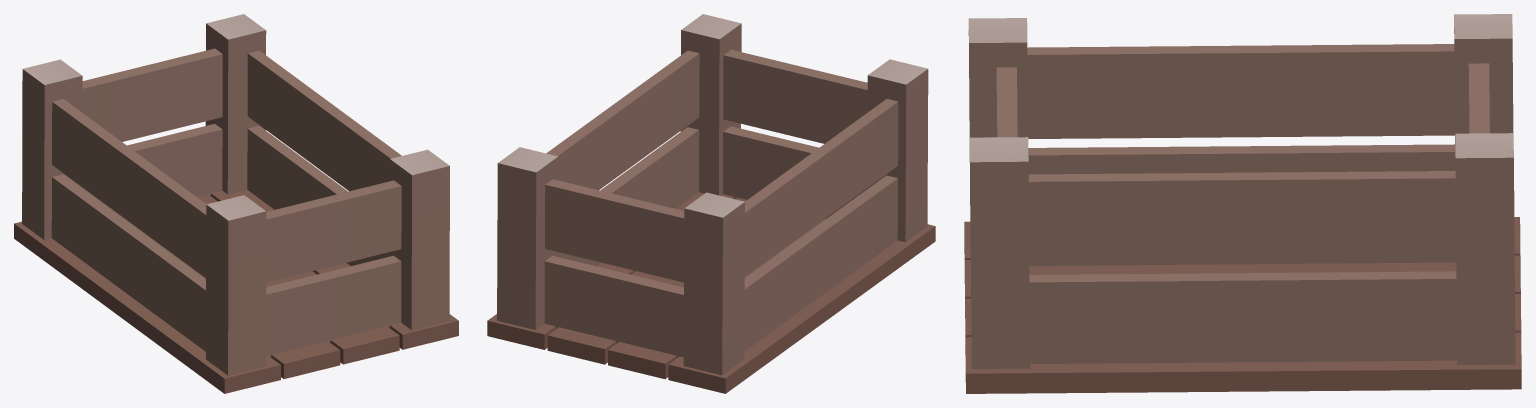
The model's file is n4_box_001_lev4.001.glb.
3 renders of one model, left to right at view 1: azimuth 30°, elevation 25°; view 2: azimuth 150°, elevation 25°; view 3: azimuth 270°, elevation 25°, orthographic. The views are drawn at different scales.
Parts seen in each view (by area): view 1: n4_box_001_lev4.001; view 2: n4_box_001_lev4.001; view 3: n4_box_001_lev4.001.
Part boxes in pixels (x1,y1,x2,y2): n4_box_001_lev4.001: (14,14,458,393); n4_box_001_lev4.001: (487,14,935,393); n4_box_001_lev4.001: (964,14,1521,393).
Bounding box in the file's own units: 0.49 × 0.3437 × 0.7522.
1 material, 1 textured.
